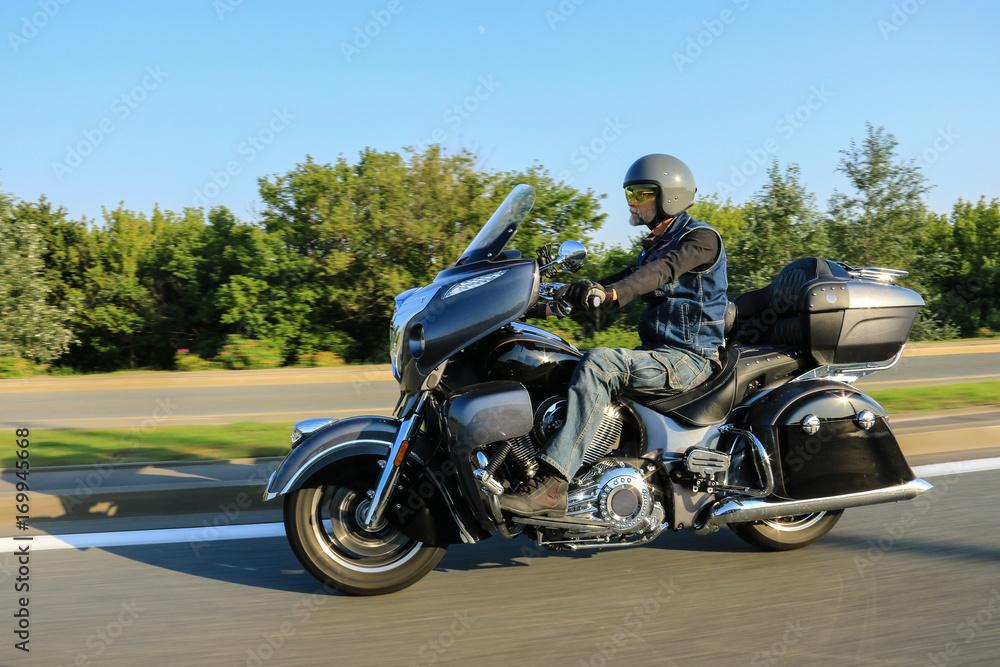helmet: (622, 152, 698, 231)
